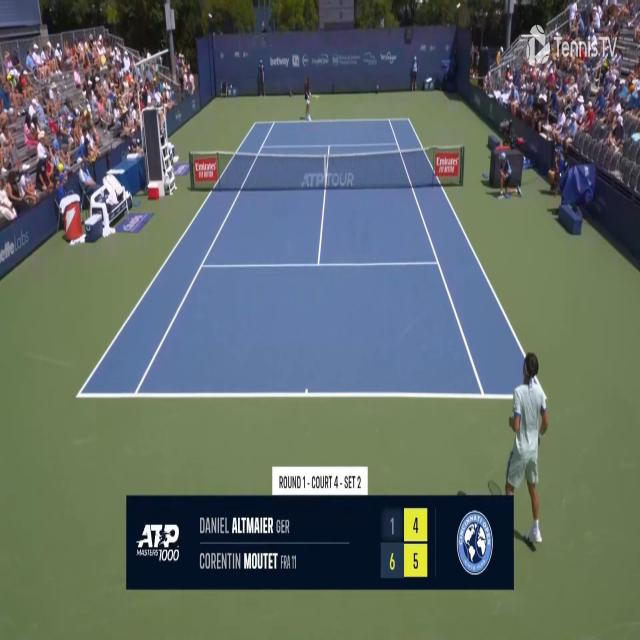tennis-player: (497, 348, 550, 547), (302, 74, 313, 124)
